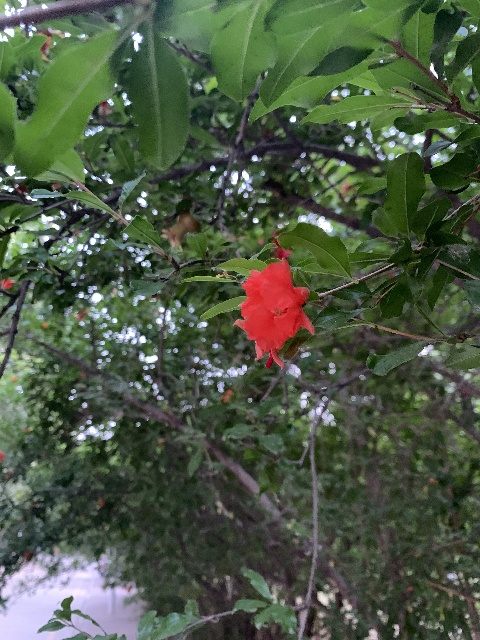early-fruit: (160, 212, 199, 250)
flower: (232, 260, 314, 369)
